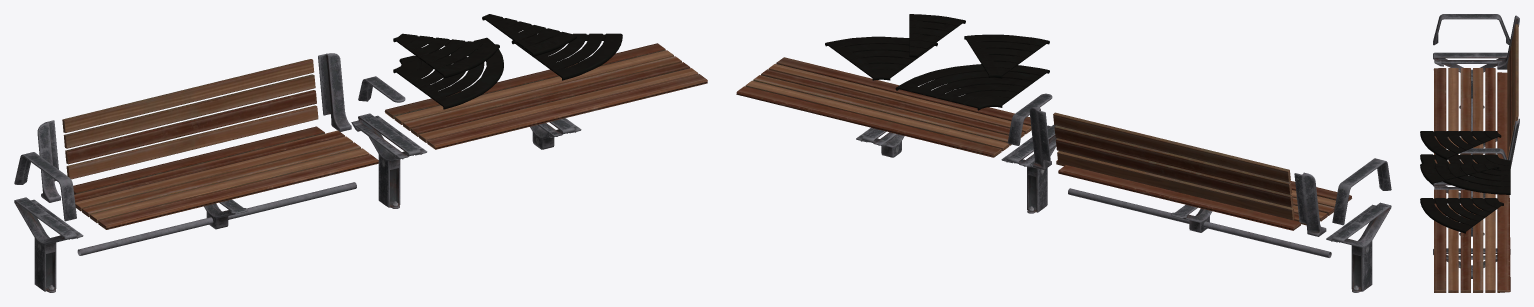
The model's file is bench.glb.
3 renders of one model, left to right at view 1: azimuth 30°, elevation 25°; view 2: azimuth 150°, elevation 25°; view 3: azimuth 270°, elevation 25°, orthographic. The views are drawn at different scales.
Visible parts, largest first — view 1: seat, connector_60, legs_double, crossbar; view 2: seat, connector_60, crossbar, legs_double; view 3: seat, connector_60, legs_double, crossbar.
Boxes of the visible parts, x1=… form: seat: x1=62, y1=43, x2=707, y2=229; connector_60: x1=393, y1=14, x2=622, y2=109; legs_double: x1=14, y1=113, x2=581, y2=292; crossbar: x1=14, y1=53, x2=405, y2=255; seat: x1=736, y1=57, x2=1351, y2=230; connector_60: x1=825, y1=14, x2=1049, y2=110; crossbar: x1=1007, y1=93, x2=1391, y2=257; legs_double: x1=856, y1=125, x2=1391, y2=292; seat: x1=1433, y1=24, x2=1518, y2=292; connector_60: x1=1420, y1=131, x2=1510, y2=233; legs_double: x1=1433, y1=52, x2=1510, y2=278; crossbar: x1=1433, y1=14, x2=1519, y2=196.
Size of the model in its own units: 4.34 by 0.9498 by 0.7704.
4 materials, 4 textured.
